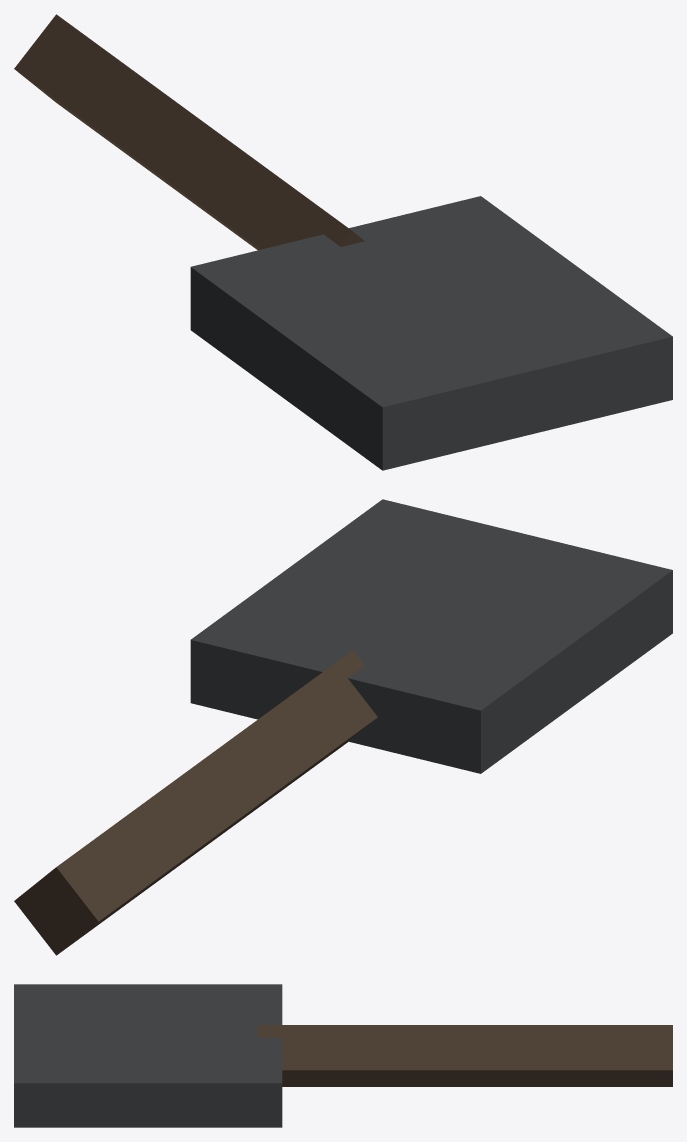
Rendered from entrench_shovel.glb.
3 views of the same model, one above another, from view 1: azimuth 30°, elevation 25°; view 2: azimuth 150°, elevation 25°; view 3: azimuth 270°, elevation 25° (orthographic). The views are drawn at different scales.
Parts seen in each view (by area): view 1: entrench_shovel; view 2: entrench_shovel; view 3: entrench_shovel.
Part boxes in pixels (x1,y1,x2,y2): entrench_shovel: [14, 14, 672, 470]; entrench_shovel: [14, 499, 672, 955]; entrench_shovel: [14, 984, 672, 1127].
Bounding box in the file's own units: 0.096 × 0.028 × 0.27.
Materials: 1 (1 with a texture image).
